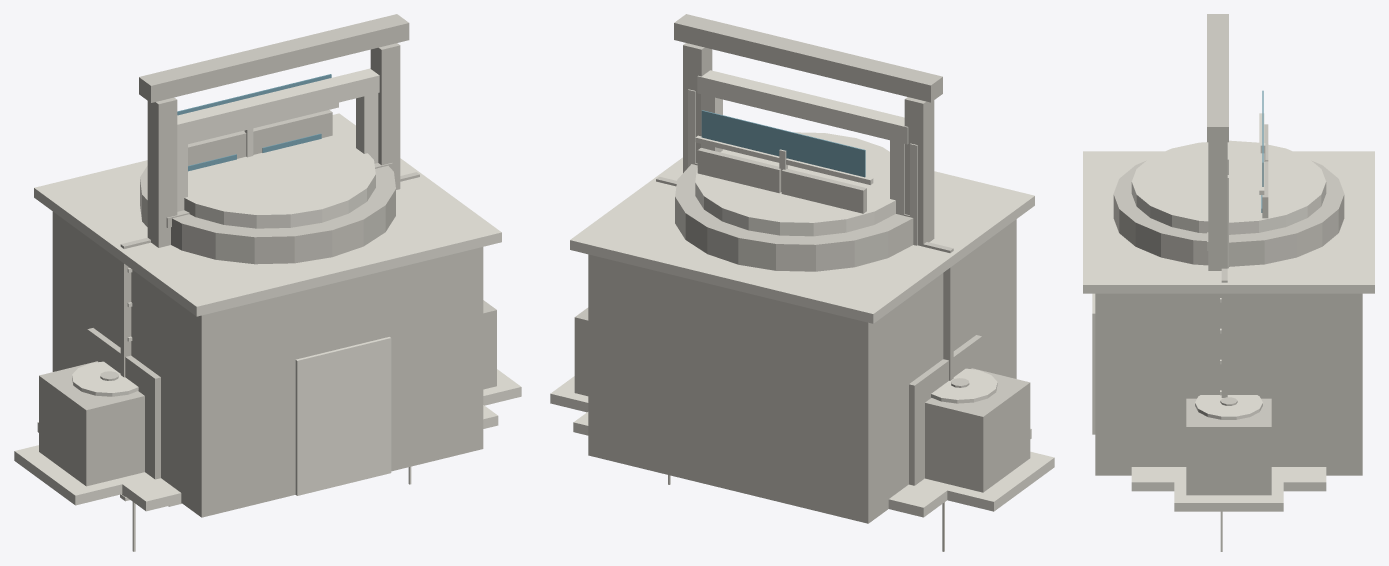
Rendered from midrise-kit.glb.
3 views of the same model, side by side, from view 1: azimuth 30°, elevation 25°; view 2: azimuth 150°, elevation 25°; view 3: azimuth 270°, elevation 25° (orthographic). The views are drawn at different scales.
Parts seen in each view (by area): view 1: roof_stair_core_01__core, roof_stair_core_01__slab, roof_stair_core_01__door, roof_water_tank_03__lid, roof_ac_row_02__unit, roof_water_tank_03__tank, loggia_piers_bars_03__slab_top, lobby_door_framed_pair_03__head, loggia_piers_bars_03__pier, roof_ac_mixed_05__unit, roof_ac_row_02__rack, loggia_piers_bars_03__pier.001 (+10 smaller); view 2: roof_stair_core_01__core, roof_stair_core_01__slab, roof_water_tank_03__tank, roof_ac_row_02__unit, roof_water_tank_03__lid, loggia_piers_bars_03__slab_top, lobby_door_framed_pair_03__head, lobby_door_framed_pair_03__transom, loggia_piers_bars_03__pier, roof_ac_row_02__rack, roof_ac_mixed_05__unit, lobby_door_framed_pair_03__leaf (+10 smaller); view 3: roof_stair_core_01__core, roof_stair_core_01__slab, roof_water_tank_03__lid, roof_water_tank_03__tank, roof_ac_row_02__unit.003, loggia_piers_bars_03__slab_top, roof_ac_row_02__rack, loggia_piers_bars_03__pier.001, roof_ac_mixed_05__plinth, roof_ac_row_02__fan.003, window_shuttered_05__shutter.001, roof_stair_core_01__door (+1 smaller).
Boxes of the visible parts, x1,y1,x2,y2 form: roof_stair_core_01__core: (52, 211, 483, 517); roof_stair_core_01__slab: (34, 113, 501, 316); roof_stair_core_01__door: (295, 337, 391, 495); roof_water_tank_03__lid: (184, 133, 375, 228); roof_ac_row_02__unit: (39, 361, 144, 486); roof_water_tank_03__tank: (140, 165, 395, 264); loggia_piers_bars_03__slab_top: (139, 14, 409, 102); lobby_door_framed_pair_03__head: (177, 68, 379, 141); loggia_piers_bars_03__pier: (147, 97, 177, 247); roof_ac_mixed_05__unit: (87, 328, 160, 479); roof_ac_row_02__rack: (14, 369, 521, 505); loggia_piers_bars_03__pier.001: (370, 43, 400, 189); roof_stair_core_01__core: (588, 219, 1016, 523); roof_stair_core_01__slab: (570, 157, 1034, 323); roof_water_tank_03__tank: (675, 164, 913, 271); roof_ac_row_02__unit: (925, 368, 1030, 492); roof_water_tank_03__lid: (695, 132, 895, 236); loggia_piers_bars_03__slab_top: (674, 14, 942, 102); lobby_door_framed_pair_03__head: (697, 70, 908, 144); lobby_door_framed_pair_03__transom: (701, 110, 865, 177); loggia_piers_bars_03__pier: (904, 97, 934, 246); roof_ac_row_02__rack: (550, 376, 1054, 511); roof_ac_mixed_05__unit: (909, 335, 981, 485); lobby_door_framed_pair_03__leaf: (781, 168, 866, 213); roof_stair_core_01__core: (1095, 293, 1362, 475); roof_stair_core_01__slab: (1083, 151, 1374, 293); roof_water_tank_03__lid: (1131, 140, 1326, 234); roof_water_tank_03__tank: (1113, 160, 1344, 266); roof_ac_row_02__unit.003: (1186, 398, 1271, 495); loggia_piers_bars_03__slab_top: (1207, 14, 1228, 142); roof_ac_row_02__rack: (1174, 467, 1283, 511); loggia_piers_bars_03__pier.001: (1208, 142, 1227, 270); roof_ac_mixed_05__plinth: (1131, 467, 1326, 491); roof_ac_row_02__fan.003: (1195, 395, 1262, 419); window_shuttered_05__shutter.001: (1221, 268, 1227, 397); roof_stair_core_01__door: (1092, 293, 1095, 434).
Size of the model in its own units: 3.8 by 3.82 by 2.4.
